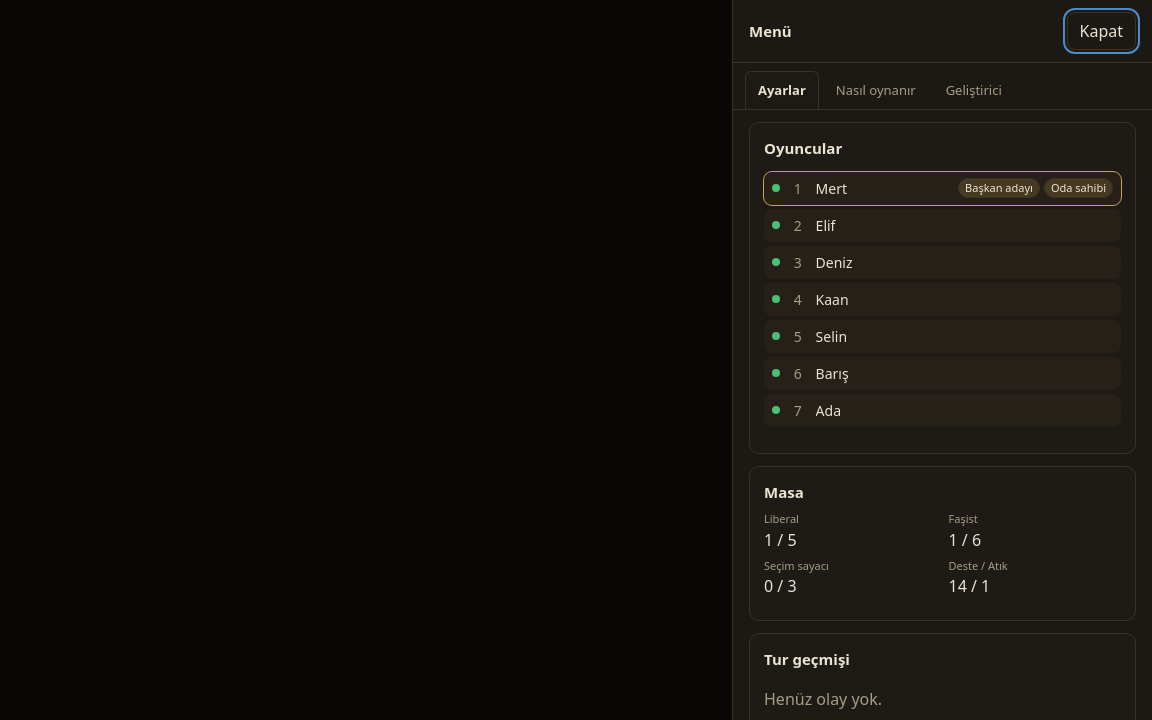
Test: GameMenu — Nasıl oynanır içeriği › on bölüm başlığı da çizilir
The image size is (1152, 720).
Click the tab "Nasıl oynanır" at (876, 90), box [823,71,929,109]
(page scrolled)
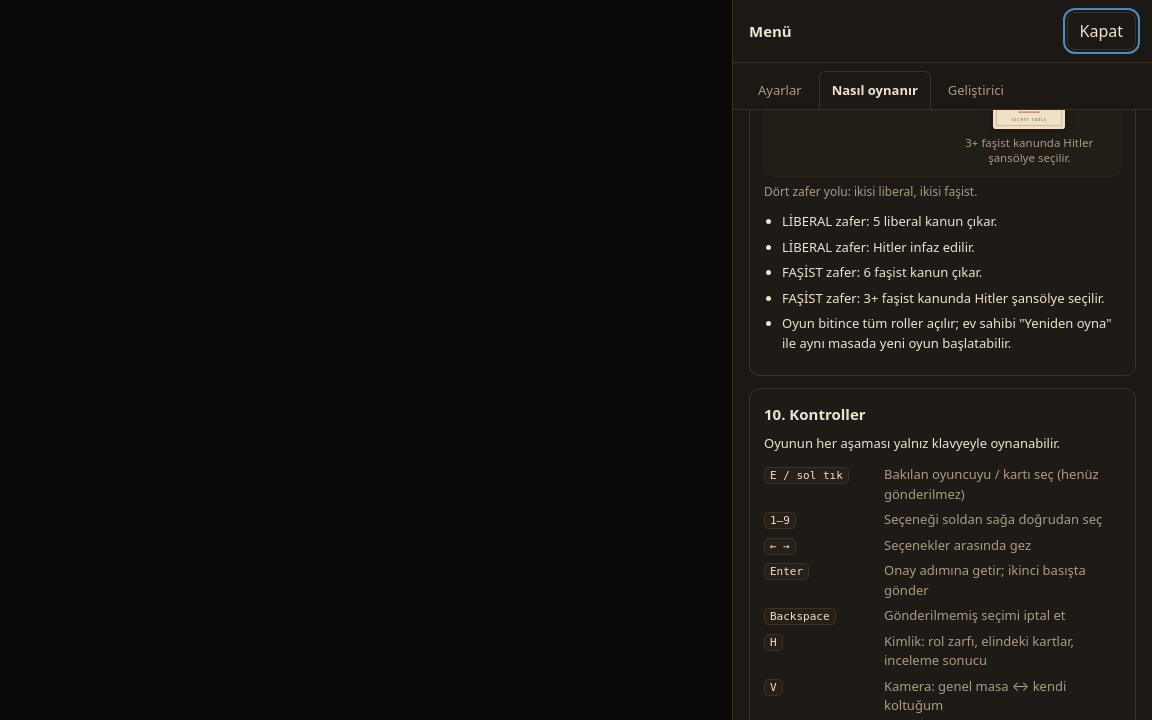
Expected: the heading "10. Kontroller" is shown, [764,404,866,424]
